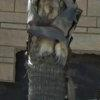Statue: (17, 2, 84, 87)
